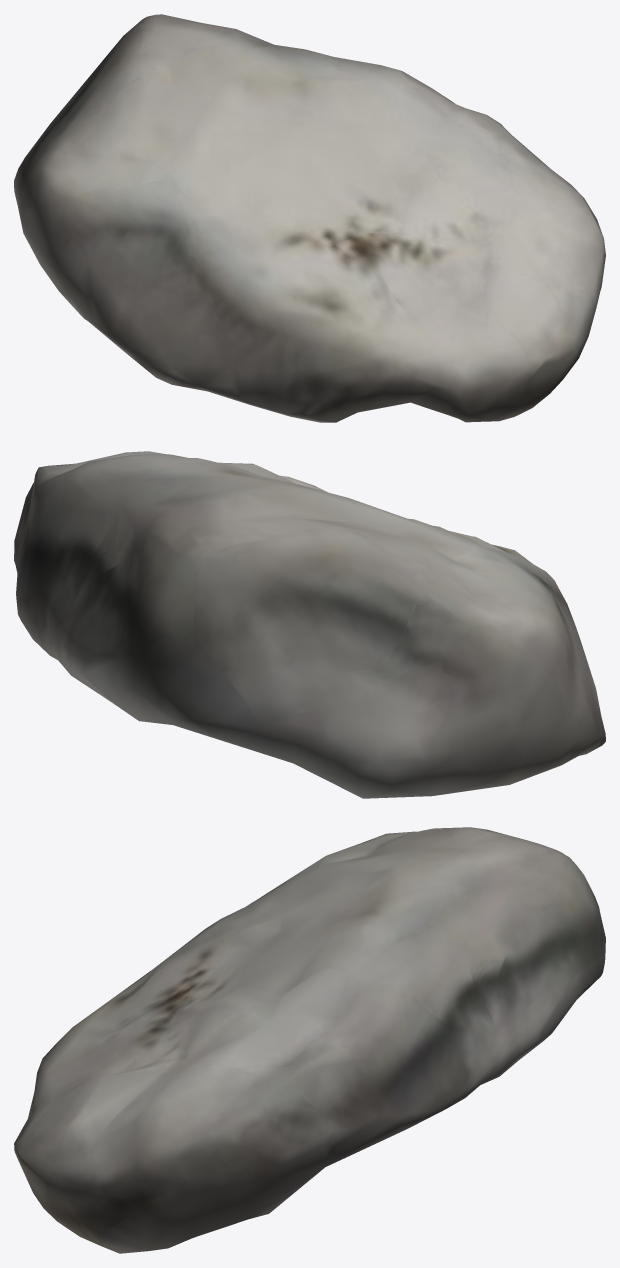
The model's file is hall.glb.
3 views of the same model, one above another, from view 1: azimuth 30°, elevation 25°; view 2: azimuth 150°, elevation 25°; view 3: azimuth 270°, elevation 25° (orthographic). The views are drawn at different scales.
Size of the model in its own units: 0.1748 by 0.1016 by 0.1769.
1 material, 1 textured.
